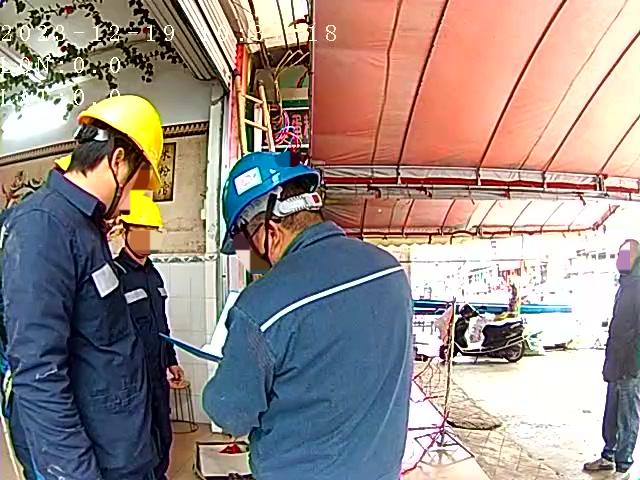halt: (61, 97, 167, 224), (224, 157, 326, 270), (120, 196, 168, 262)
inear: (103, 140, 144, 198)
outear: (248, 220, 290, 264)
unhalt: (618, 239, 640, 280)
